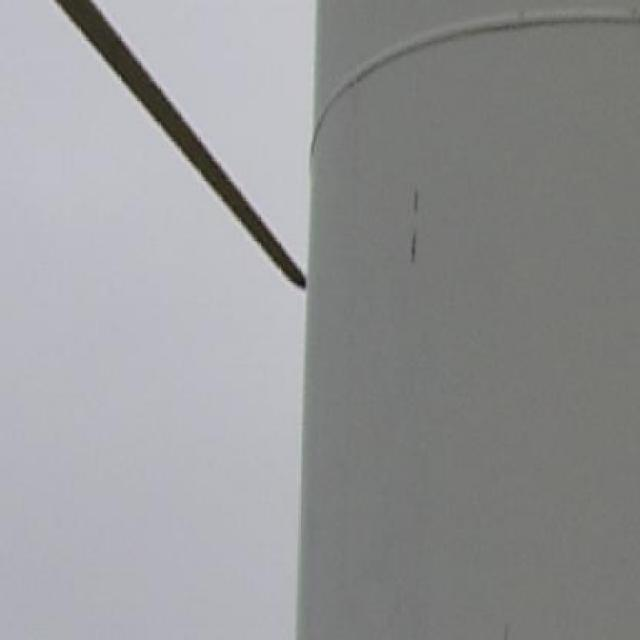Crack: (406, 185, 420, 266)
